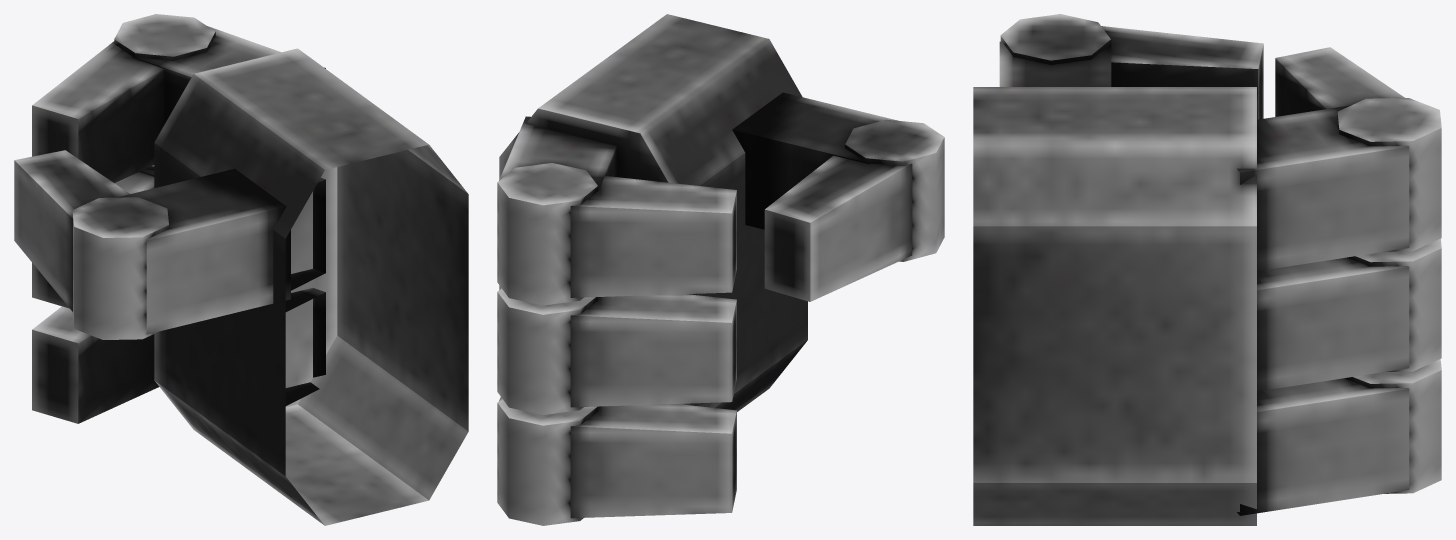
The model's file is Hand.FBX.
3 renders of one model, left to right at view 1: azimuth 30°, elevation 25°; view 2: azimuth 150°, elevation 25°; view 3: azimuth 270°, elevation 25°, orthographic. The views are drawn at different scales.
Parts seen in each view (by area): view 1: handr; view 2: handr; view 3: handr.
Part boxes in pixels (left/top/right/bottom): handr: left=14, top=14, right=468, bottom=525; handr: left=497, top=14, right=944, bottom=525; handr: left=973, top=14, right=1441, bottom=525.
Size of the model in its own units: 4.05 by 3.89 by 4.3.
1 material, 1 textured.
